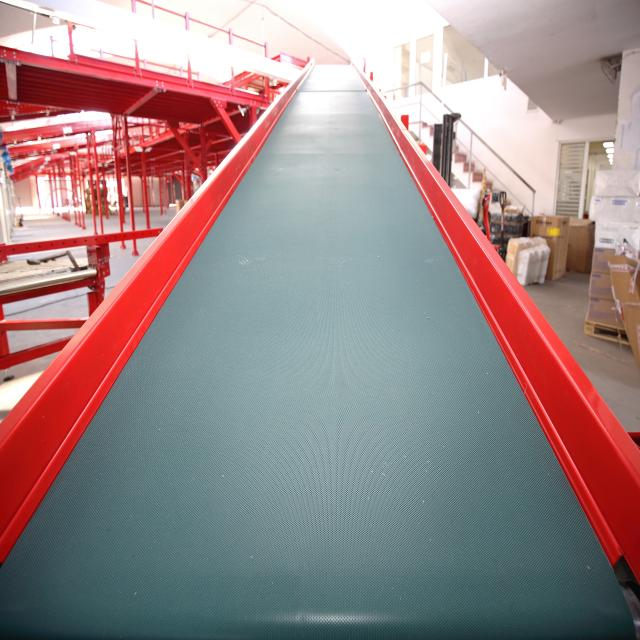Convoyeur: (10, 63, 640, 640)
